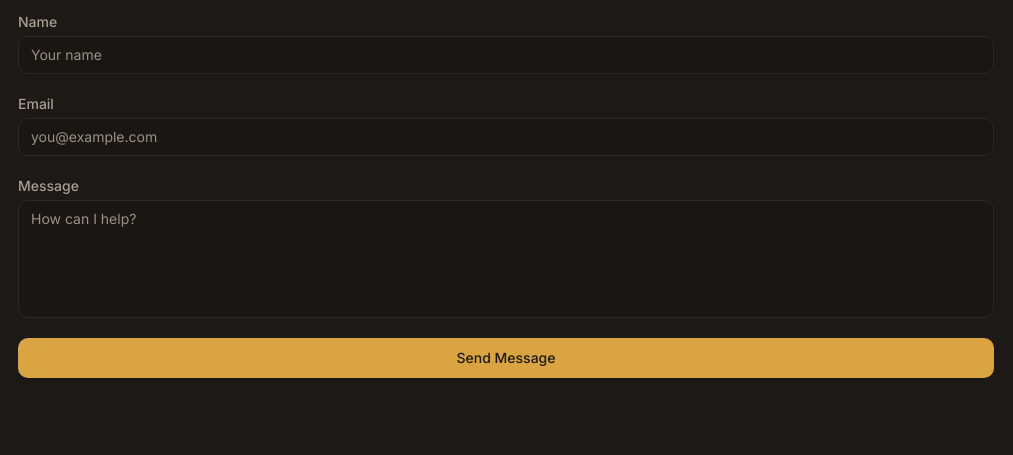
ContactForm › clears field error when user starts typing in that field
The width and height of the screenshot is (1013, 455).
// Submit empty to trigger errors
Submit the form "Name Email Message Send Message"
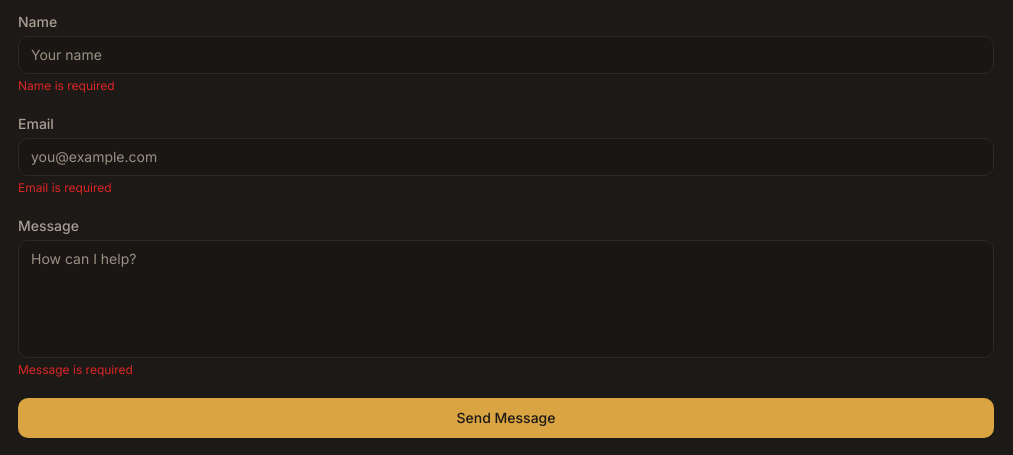
Expected: the text "Name is required" is shown, [18,78,115,93]
// Start typing — error should clear
Type "J" into the field labelled "Name" at (506, 55), box [18,36,994,74]
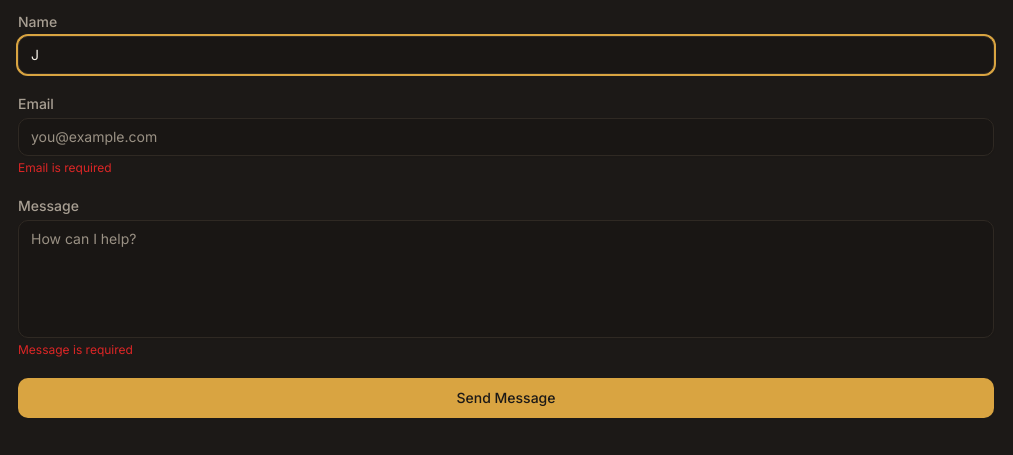
Expected: the text "Name is required" is gone
